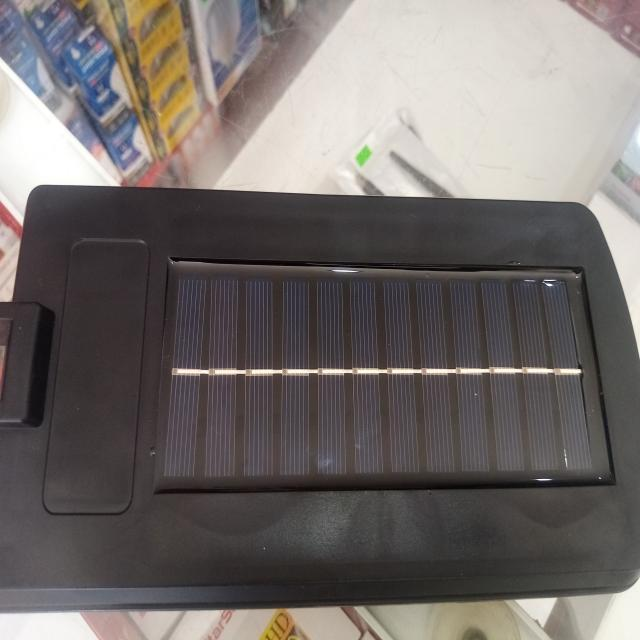no faulty: (166, 269, 594, 474)
